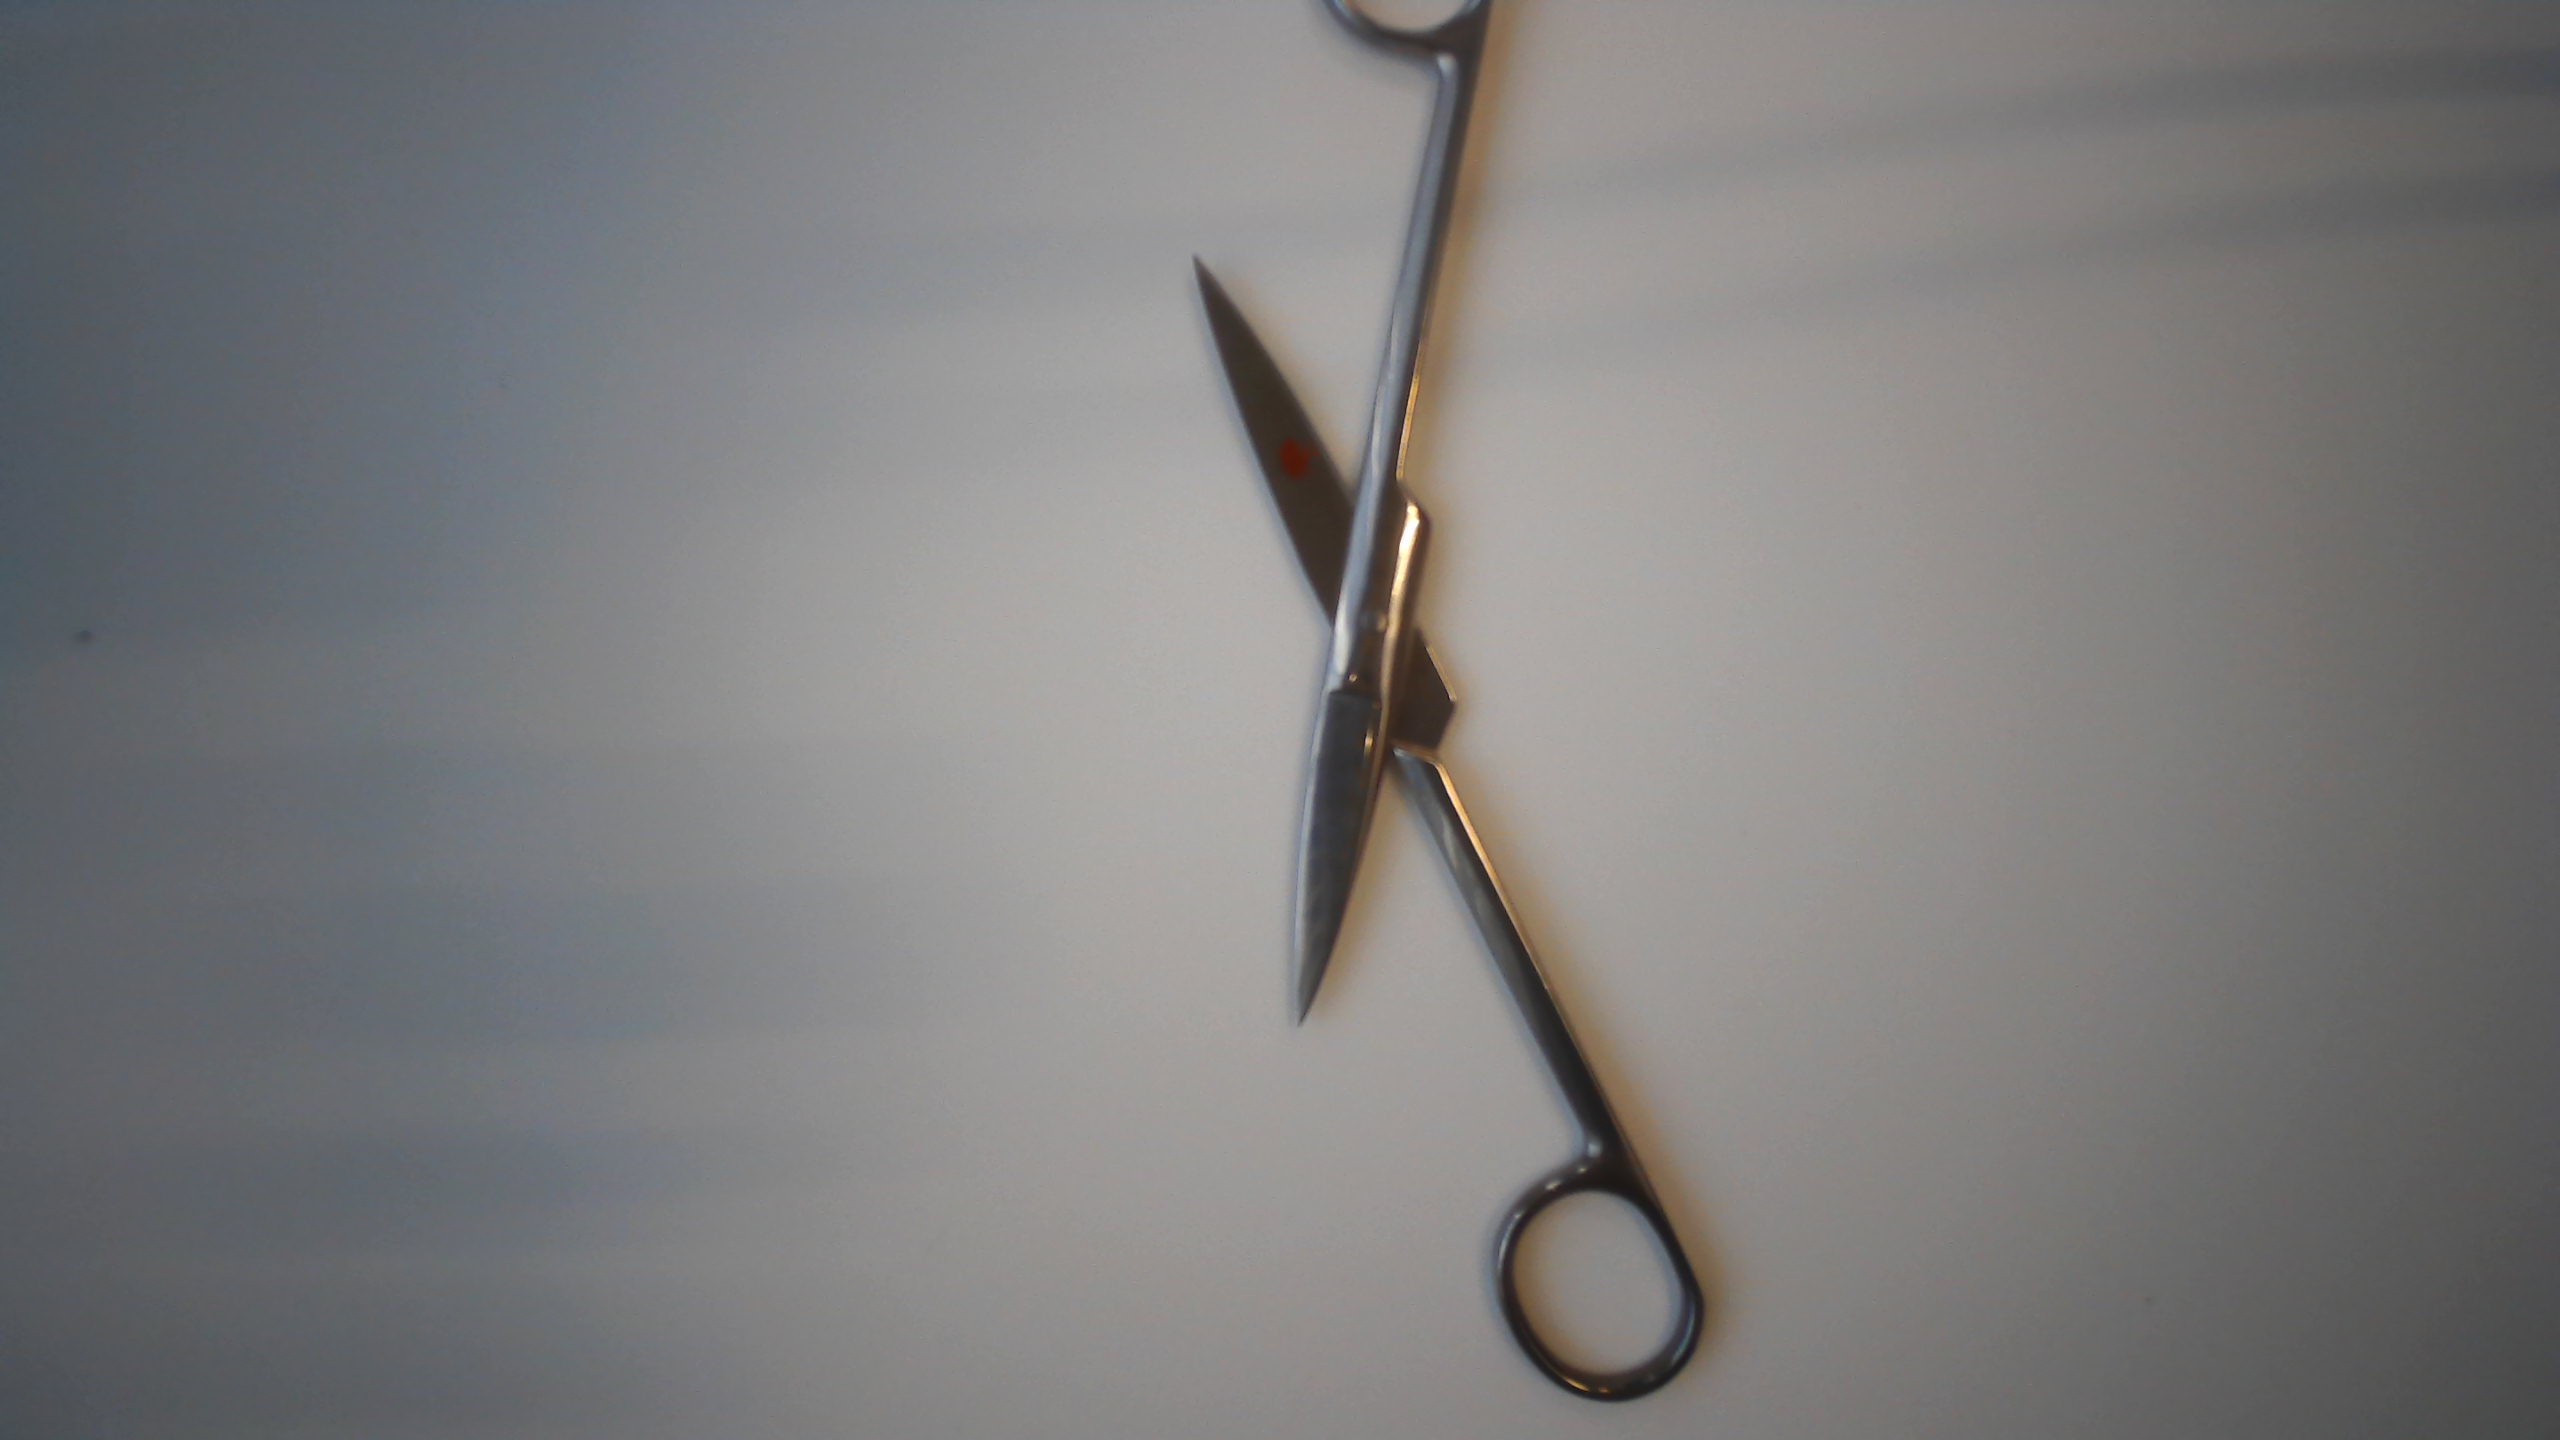Stain: (1273, 427, 1319, 484)
